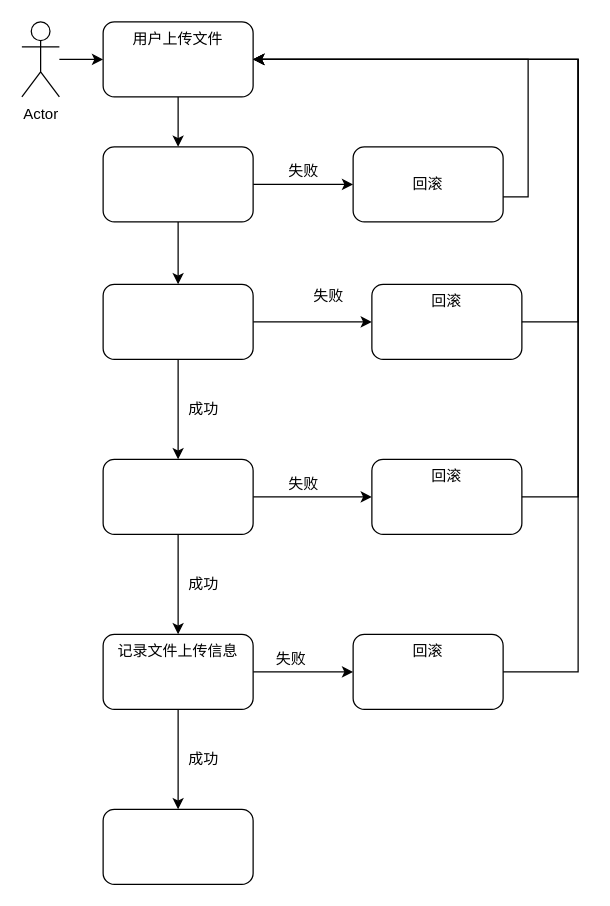
Some shapes in this 610 by 906 pixel diagram are drawn without their labels. The box of each missing label's shape, as (x1, y1, x2, y2) in pixels:
上传文件（前端）: (102, 283, 253, 359)
完成: (102, 808, 253, 884)
文件压缩: (102, 146, 253, 222)
调用上传完成接口: (102, 458, 253, 534)
